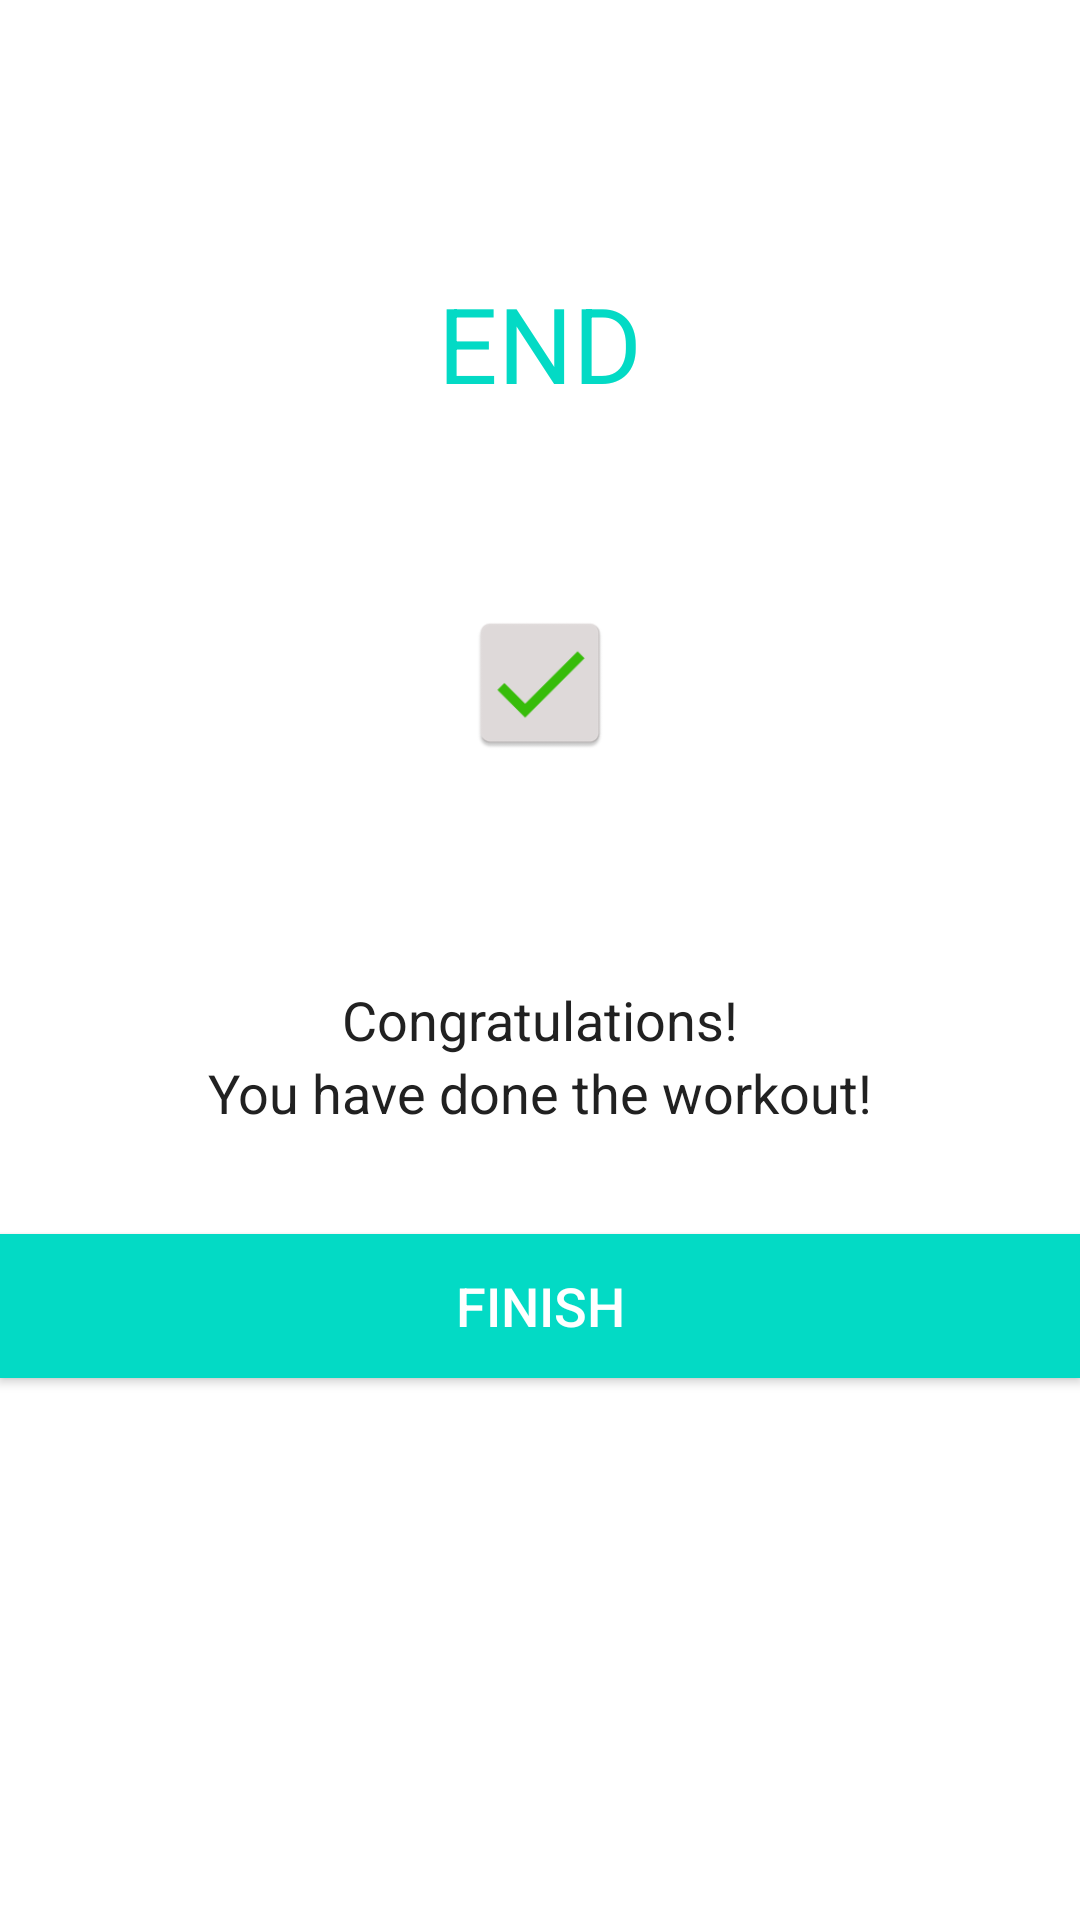

Screen size 1080x1920. Icon name, then its box in pixels as (x1, y1, x2, y2):
done tick: (480, 624, 600, 746)
